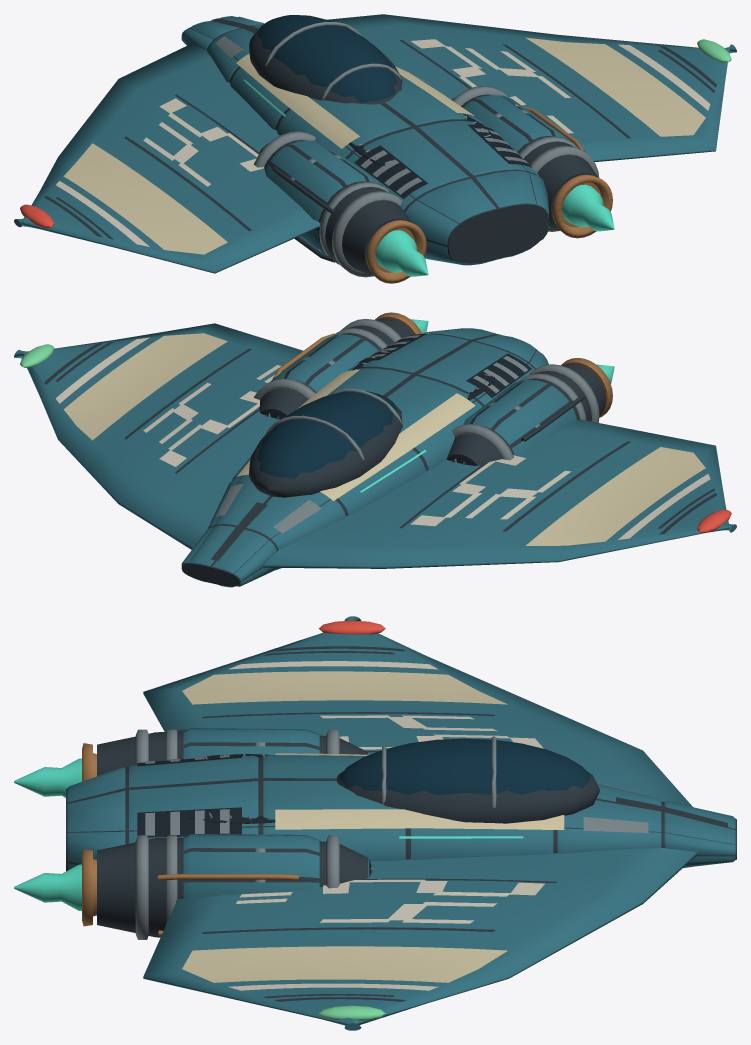
The model's file is tide.glb.
The picture shows the model from 3 angles, top to bottom: view 1: azimuth 30°, elevation 25°; view 2: azimuth 150°, elevation 25°; view 3: azimuth 270°, elevation 25°; orthographic projection. The views are drawn at different scales.
Parts seen in each view (by area): view 1: tide; view 2: tide; view 3: tide.
Part boxes in pixels (x1,y1,x2,y2): tide: (14, 14, 736, 283); tide: (14, 312, 736, 587); tide: (14, 616, 736, 1030).
Size of the model in its own units: 13.84 by 2.21 by 10.39.
